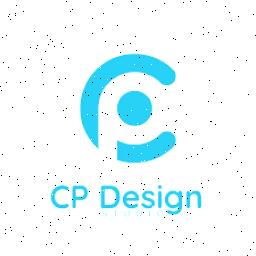c: (47, 180, 69, 212)
d: (97, 182, 121, 210)
e: (122, 187, 140, 209)
p: (70, 183, 92, 213)
s: (140, 188, 156, 210)
